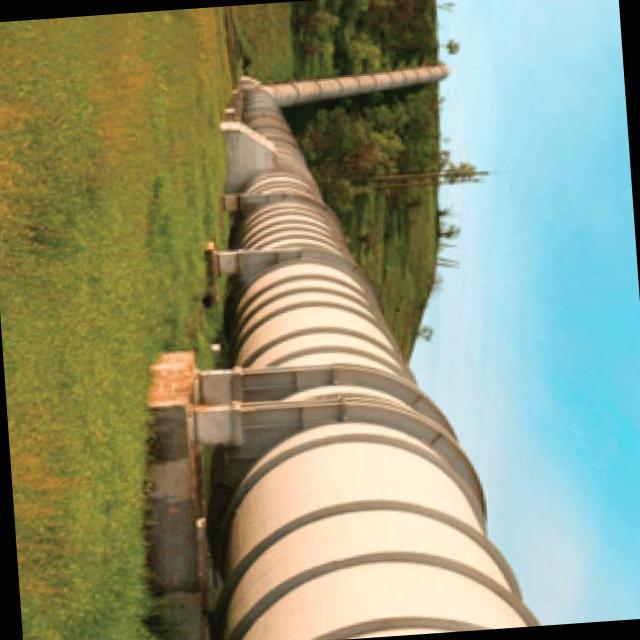gas: (152, 85, 537, 640)
